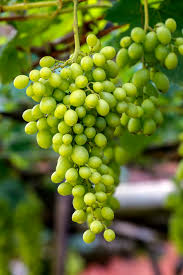grapes: (24, 44, 133, 249), (116, 18, 183, 146)
